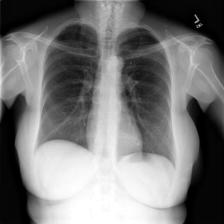normal: (33, 19, 178, 171)
